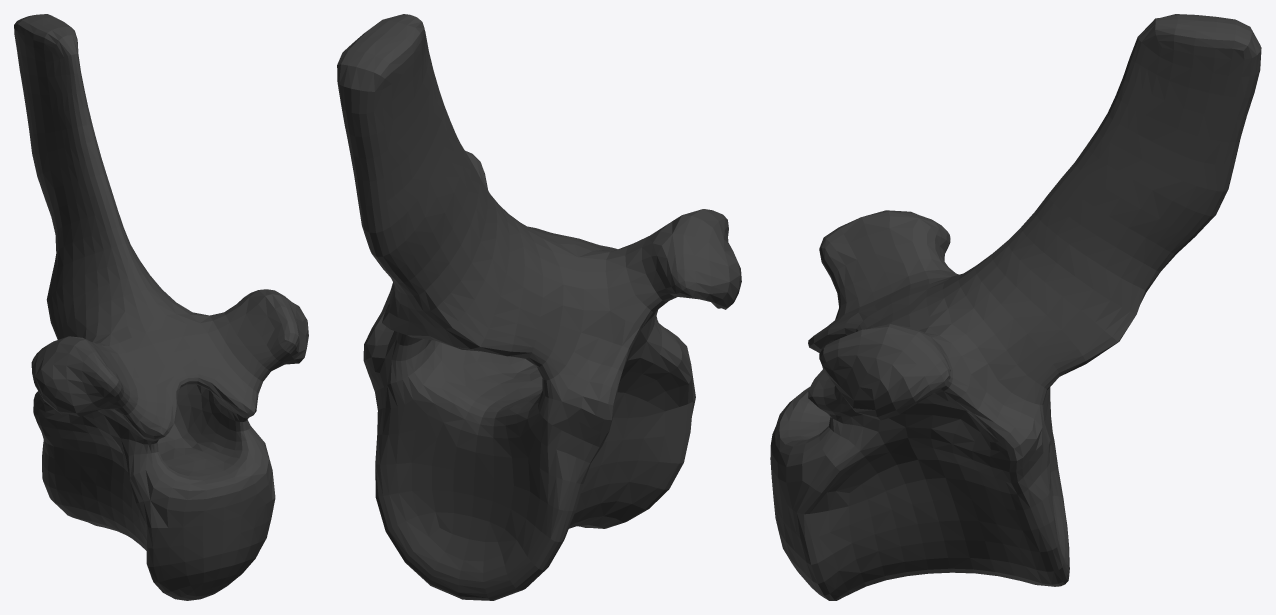
3 renders of one model, left to right at view 1: azimuth 30°, elevation 25°; view 2: azimuth 150°, elevation 25°; view 3: azimuth 270°, elevation 25°, orthographic. The views are drawn at different scales.
Parts seen in each view (by area): view 1: b_T12_LO; view 2: b_T12_LO; view 3: b_T12_LO.
Part boxes in pixels (bbox=[...]): b_T12_LO: bbox=[14, 14, 308, 600]; b_T12_LO: bbox=[337, 14, 741, 600]; b_T12_LO: bbox=[770, 14, 1261, 600].
Size of the model in its own units: 0.000818 by 0.00139 by 0.00107.
1 material, 1 textured.
